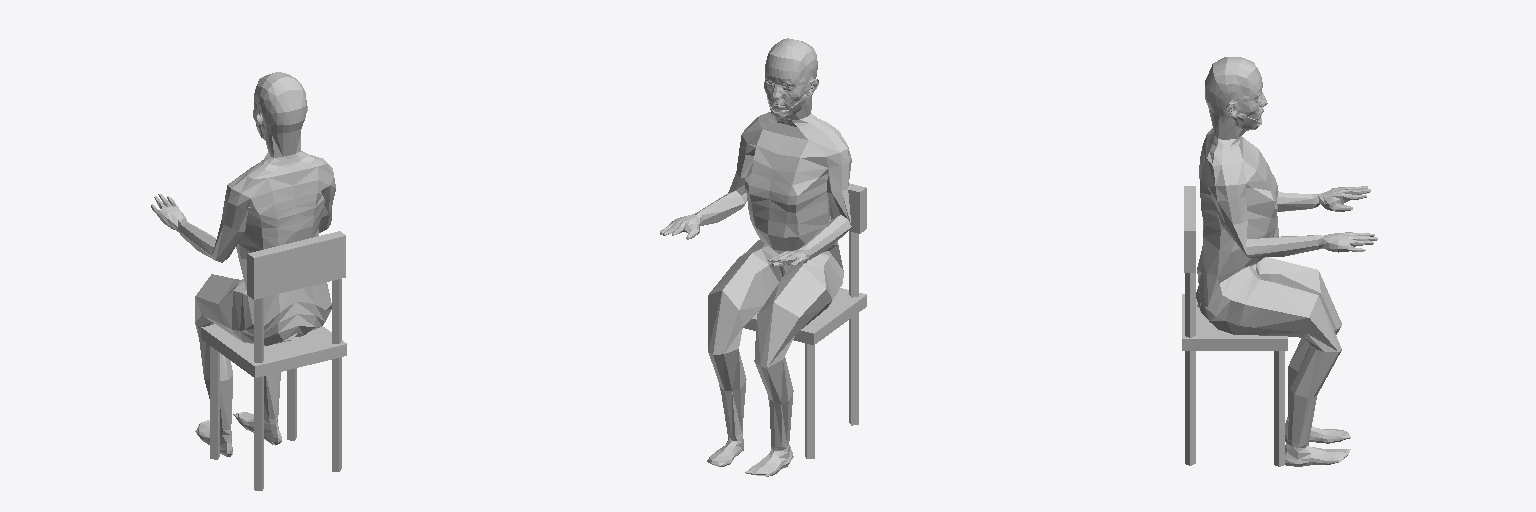
The model's file is amigaguy_000003.obj.
3 views of the same model, side by side, from view 1: azimuth 30°, elevation 25°; view 2: azimuth 150°, elevation 25°; view 3: azimuth 270°, elevation 25° (orthographic).
Parts seen in each view (by area): view 1: Cube, Cube.001_Cube.002; view 2: Cube, Cube.001_Cube.002; view 3: Cube, Cube.001_Cube.002.
Part boxes in pixels (x1,y1,x2,y2): Cube: (151,72,335,456); Cube.001_Cube.002: (201,231,346,490); Cube: (660,38,851,476); Cube.001_Cube.002: (728,183,866,458); Cube: (1196,57,1377,466); Cube.001_Cube.002: (1182,186,1287,466).
Size of the model in its own units: 26.96 by 76.39 by 34.51.